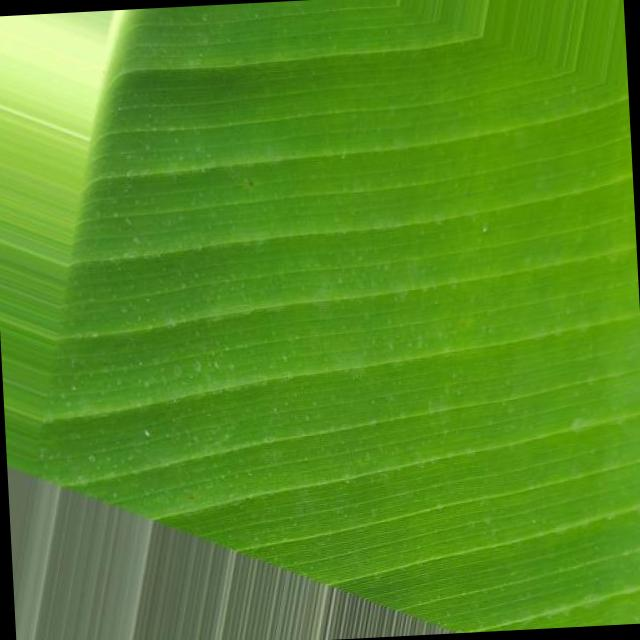Banana_Healthy: (166, 39, 616, 496)
